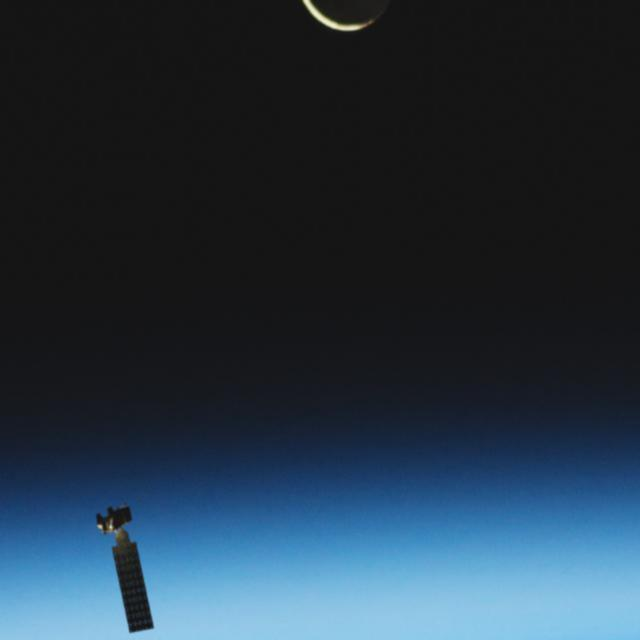satellite: (93, 496, 168, 640)
